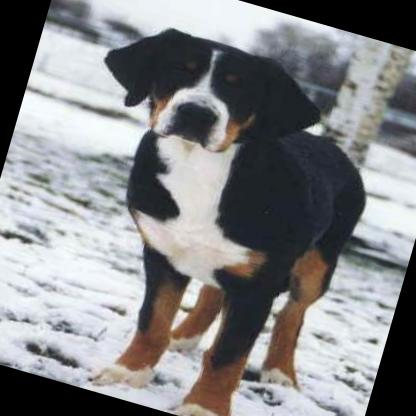Greater_Swiss_Mountain_dog: (14, 9, 397, 416)
